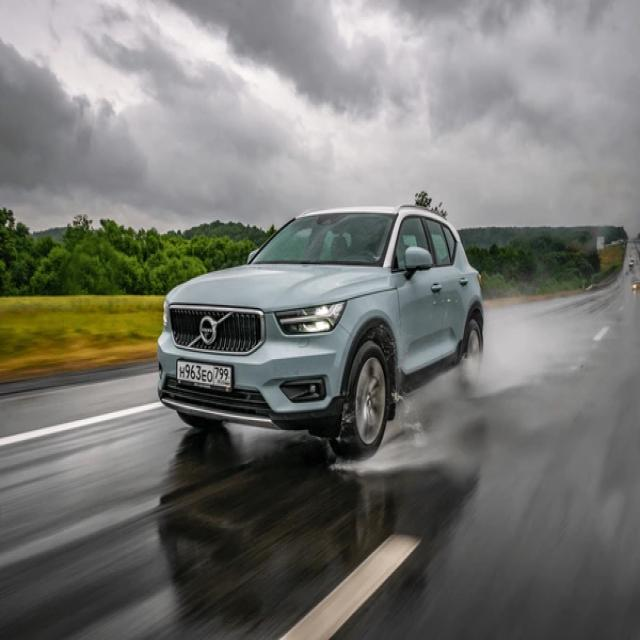volvo: (199, 315, 223, 349)
